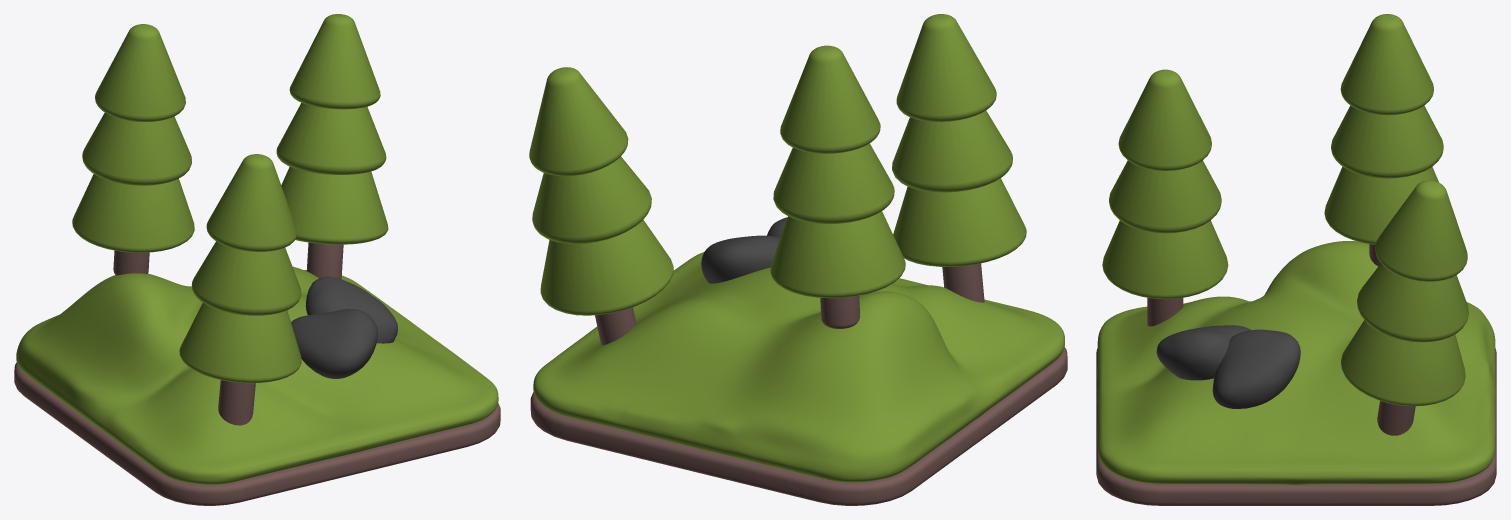
The model's file is land-animated-3d-icon-284177713373.glb.
3 views of the same model, side by side, from view 1: azimuth 30°, elevation 25°; view 2: azimuth 150°, elevation 25°; view 3: azimuth 270°, elevation 25° (orthographic). The views are drawn at different scales.
Visible parts, largest first — view 1: Grass.001, Soil.001, Leaves 3.001, Leaves 3, Leaves 3.002, Leaves 2.002, Leaves 2.001, Leaves 2, Leaves 1, Leaves 1.001, Leaves 1.002, Stone 2 (+4 smaller); view 2: Grass.001, Soil.001, Leaves 3, Leaves 3.002, Leaves 3.001, Leaves 1.002, Leaves 2.001, Leaves 2, Leaves 1, Leaves 2.002, Leaves 1.001, Stone 1 (+3 smaller); view 3: Grass.001, Soil.001, Leaves 3.001, Leaves 3.002, Leaves 1.002, Leaves 1.001, Leaves 1, Leaves 2, Leaves 2.001, Leaves 2.002, Stone 1, Leaves 3 (+3 smaller).
Boxes of the visible parts, left/top/right/bottom form: Grass.001: left=16, top=266, right=498, bottom=484; Soil.001: left=14, top=362, right=500, bottom=505; Leaves 3.001: left=179, top=303, right=301, bottom=383; Leaves 3: left=72, top=174, right=194, bottom=252; Leaves 3.002: left=281, top=167, right=388, bottom=244; Leaves 2.002: left=276, top=103, right=386, bottom=174; Leaves 2.001: left=191, top=241, right=301, bottom=315; Leaves 2: left=82, top=112, right=191, bottom=185; Leaves 1: left=95, top=24, right=185, bottom=121; Leaves 1.001: left=206, top=154, right=297, bottom=251; Leaves 1.002: left=289, top=14, right=380, bottom=109; Stone 2: left=291, top=308, right=377, bottom=378; Grass.001: left=533, top=252, right=1064, bottom=482; Soil.001: left=530, top=347, right=1067, bottom=505; Leaves 3: left=770, top=211, right=905, bottom=298; Leaves 3.002: left=540, top=219, right=673, bottom=315; Leaves 3.001: left=893, top=178, right=1026, bottom=266; Leaves 1.002: left=529, top=67, right=628, bottom=176; Leaves 2.001: left=892, top=110, right=1012, bottom=192; Leaves 2: left=773, top=143, right=894, bottom=224; Leaves 1: left=780, top=45, right=880, bottom=153; Leaves 2.002: left=532, top=156, right=651, bottom=244; Leaves 1.001: left=896, top=14, right=996, bottom=121; Stone 1: left=701, top=235, right=780, bottom=283; Grass.001: left=1097, top=241, right=1495, bottom=484; Soil.001: left=1096, top=348, right=1496, bottom=505; Leaves 3.001: left=1102, top=220, right=1228, bottom=299; Leaves 3.002: left=1341, top=320, right=1465, bottom=406; Leaves 1.002: left=1375, top=180, right=1467, bottom=281; Leaves 1.001: left=1118, top=69, right=1211, bottom=170; Leaves 1: left=1340, top=14, right=1433, bottom=115; Leaves 2: left=1331, top=105, right=1443, bottom=178; Leaves 2.001: left=1109, top=160, right=1221, bottom=233; Leaves 2.002: left=1357, top=263, right=1468, bottom=342; Stone 1: left=1212, top=329, right=1300, bottom=408; Leaves 3: left=1324, top=166, right=1438, bottom=244.
Bounding box in the file's own units: 2.05 × 2.05 × 2.
